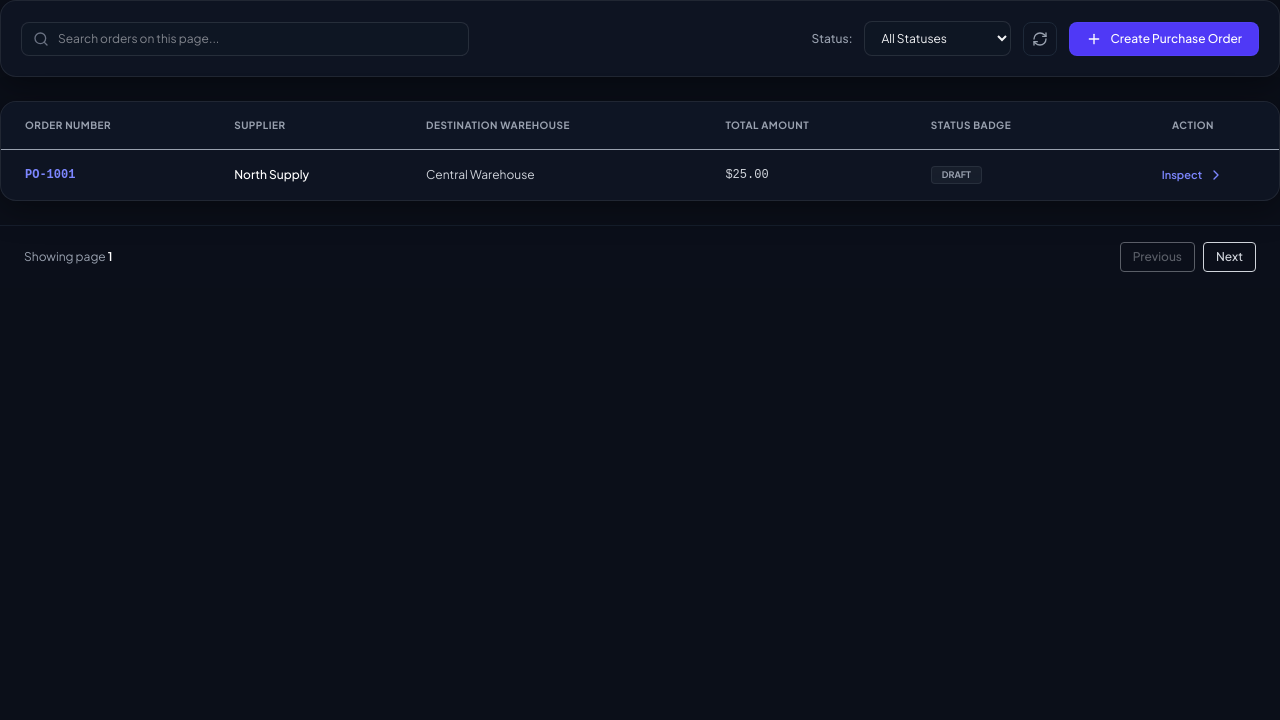
Test: purchase orders › returns to server page zero after create and separates refresh failure from success: false
Expected: the text "PO-1001" is shown, [1,150,210,200]
Click the button "Next": (1230, 257) [1203,242,1256,272]
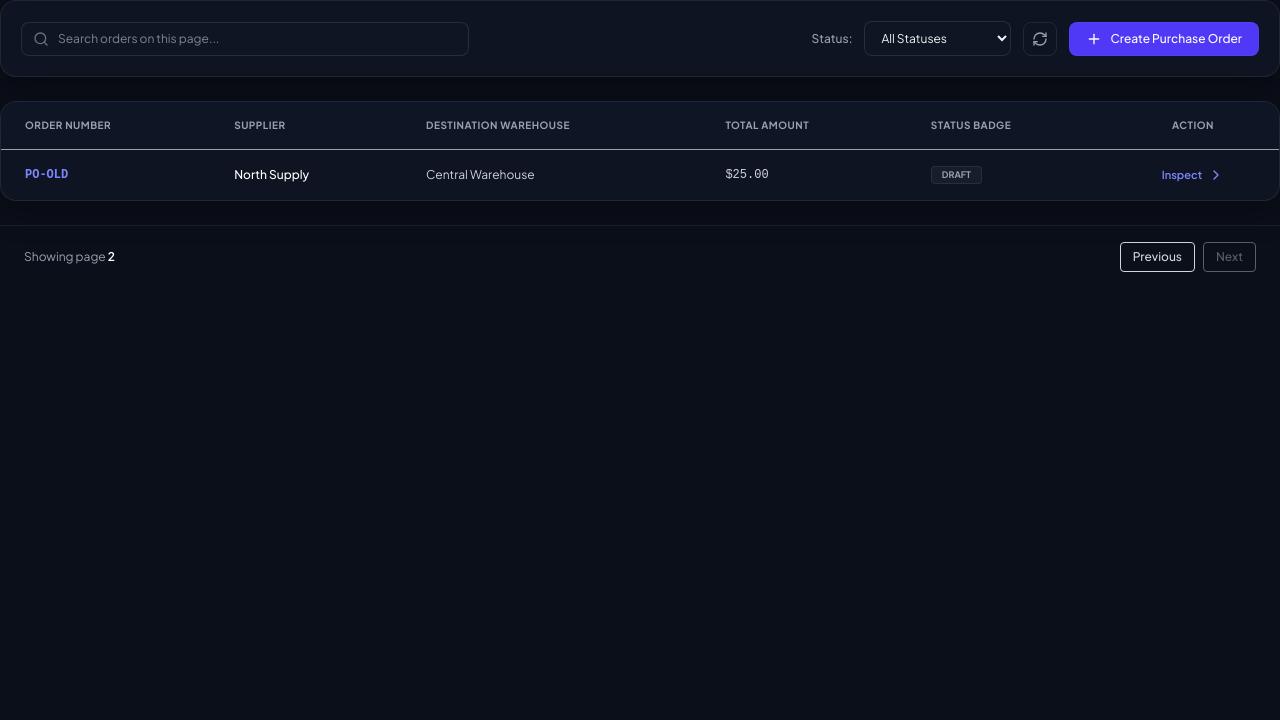
Expected: the text "PO-OLD" is shown, [1,150,210,200]
Click the button "Create Purchase Order": (1164, 38) [1070,22,1259,56]
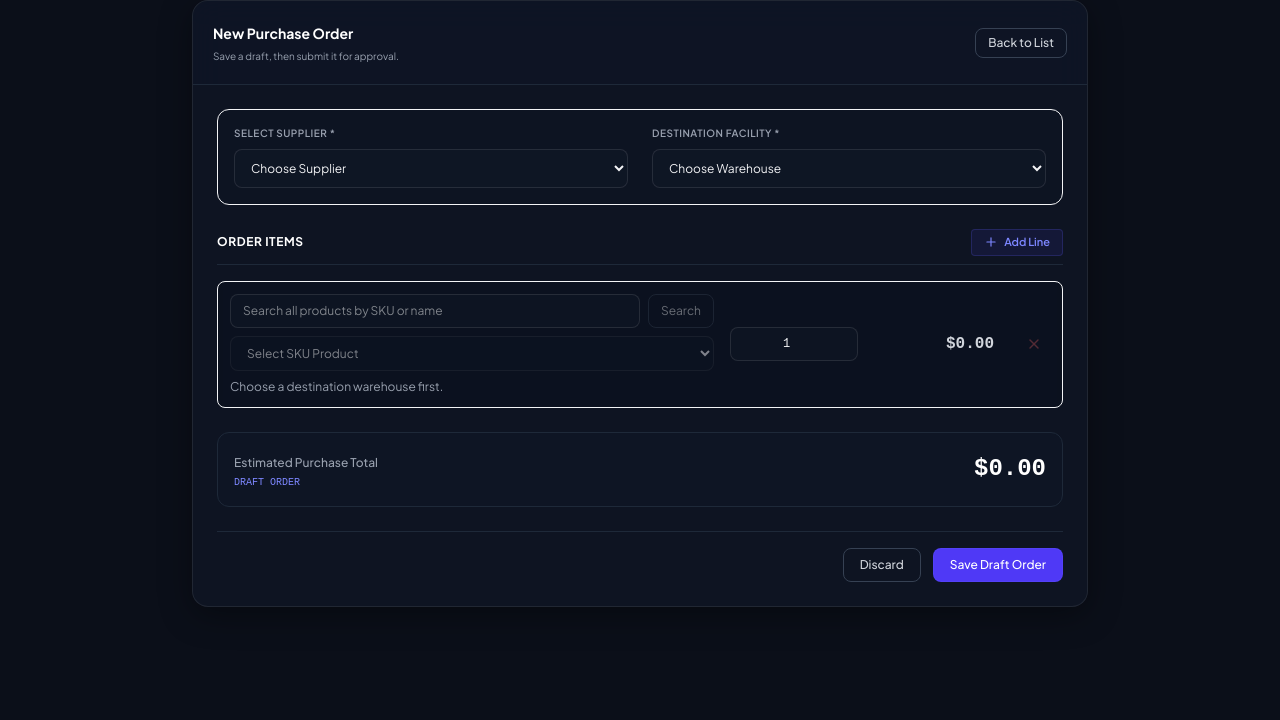
Select "North Supply" in the dropdown below "Select Supplier *": (431, 168) [234,149,628,188]
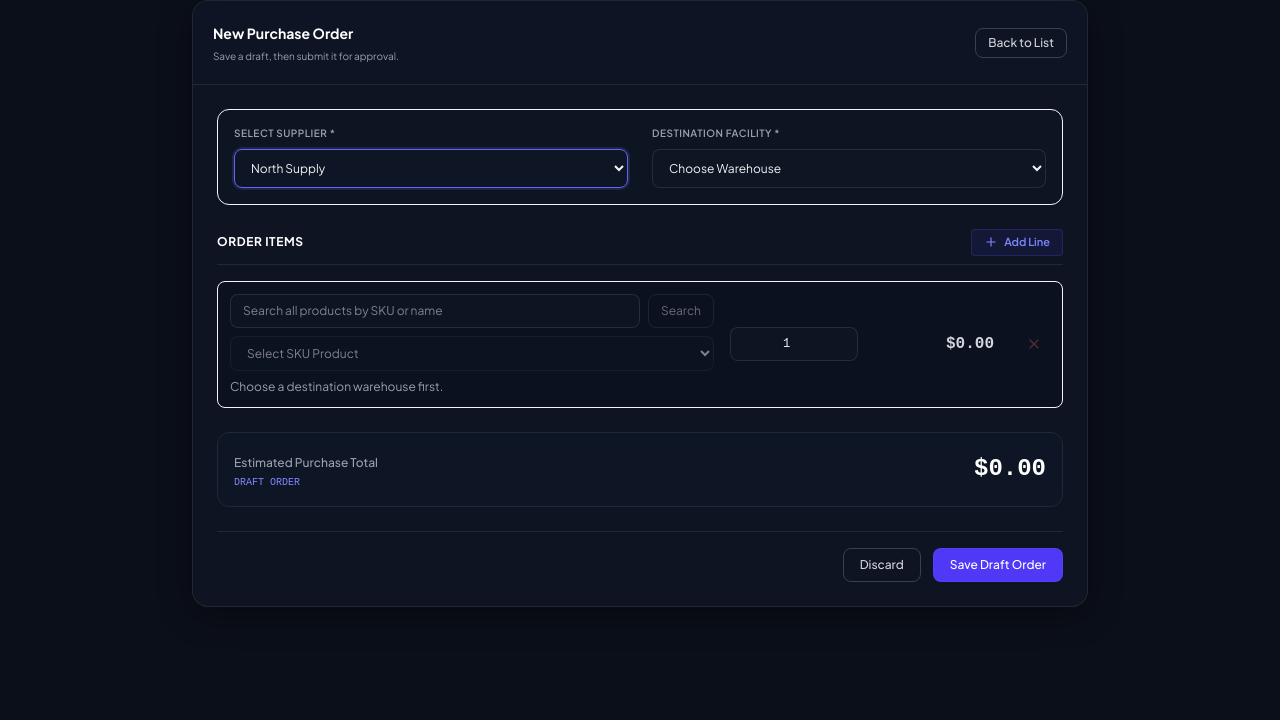
Select "Central Warehouse" in the dropdown below "Destination Facility *": (849, 168) [652,149,1046,188]
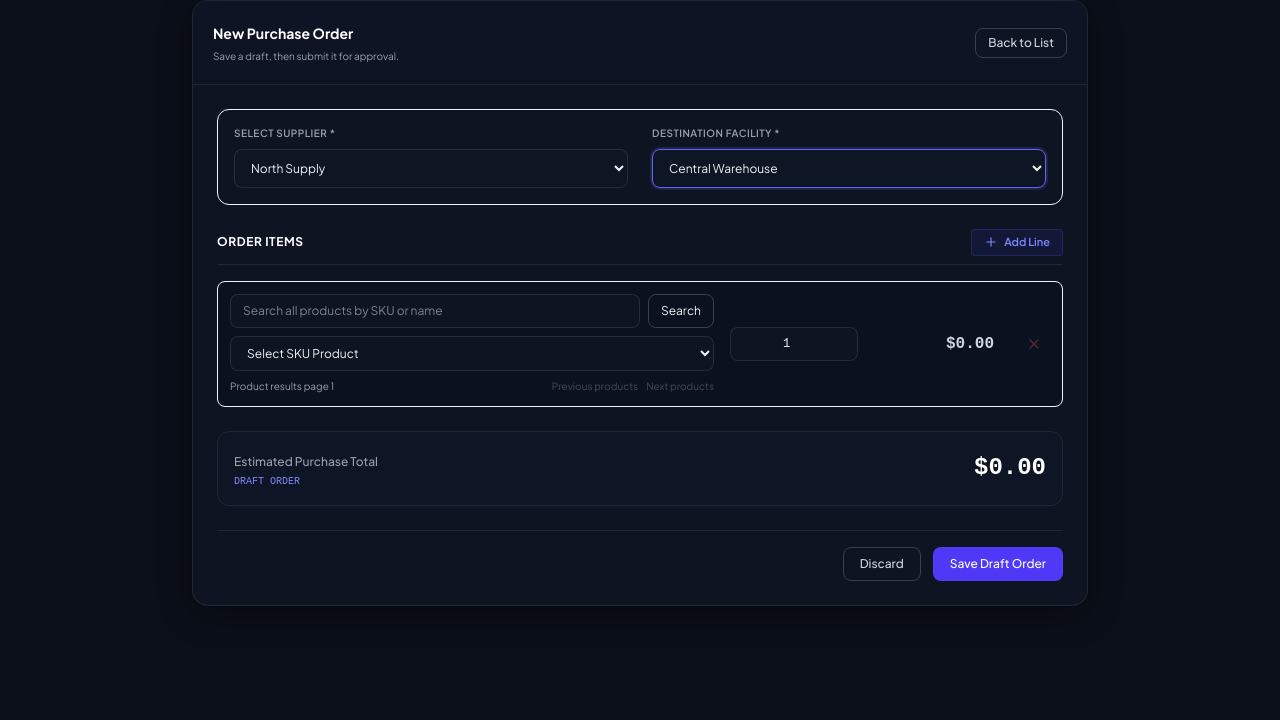
Select "SOAP-01 - Hand Soap ($12.50)" in the dropdown named "Select SKU Product": (472, 353) [230,336,714,370]
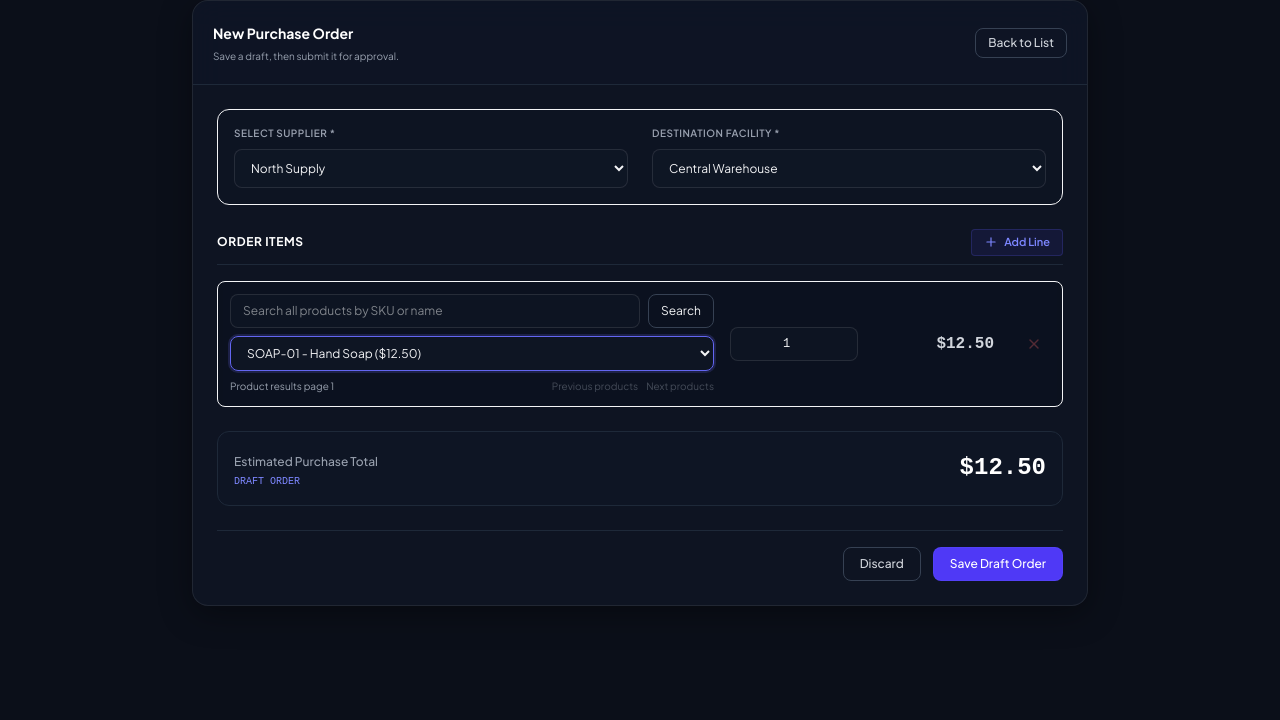
Click the button "Save Draft Order": (998, 564) [933,546,1063,580]
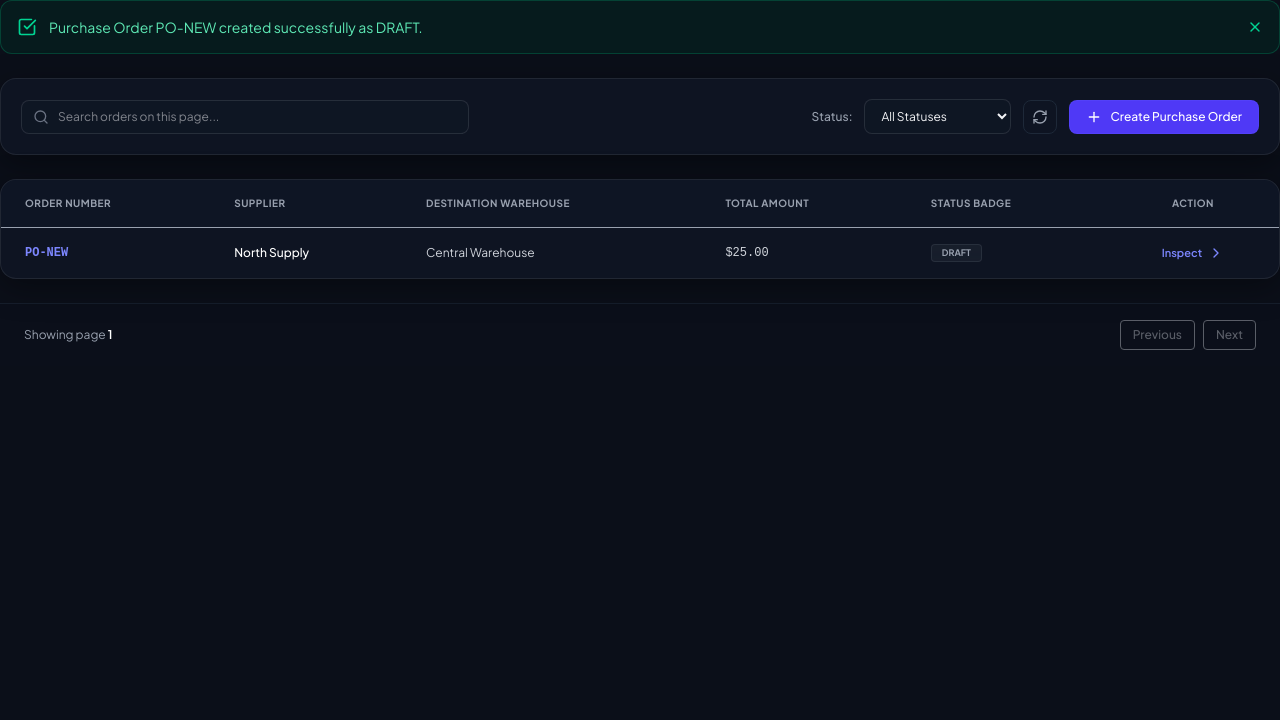
Expected: the text "Purchase Order PO-NEW created successfully as DRAFT." is shown, [49,17,423,37]
Expected: the text "New Purchase Order" is gone
Expected: the row "PO-NEW North Supply Central Warehouse $25.00 DRAFT Inspect" is shown, [1,228,1279,278]
